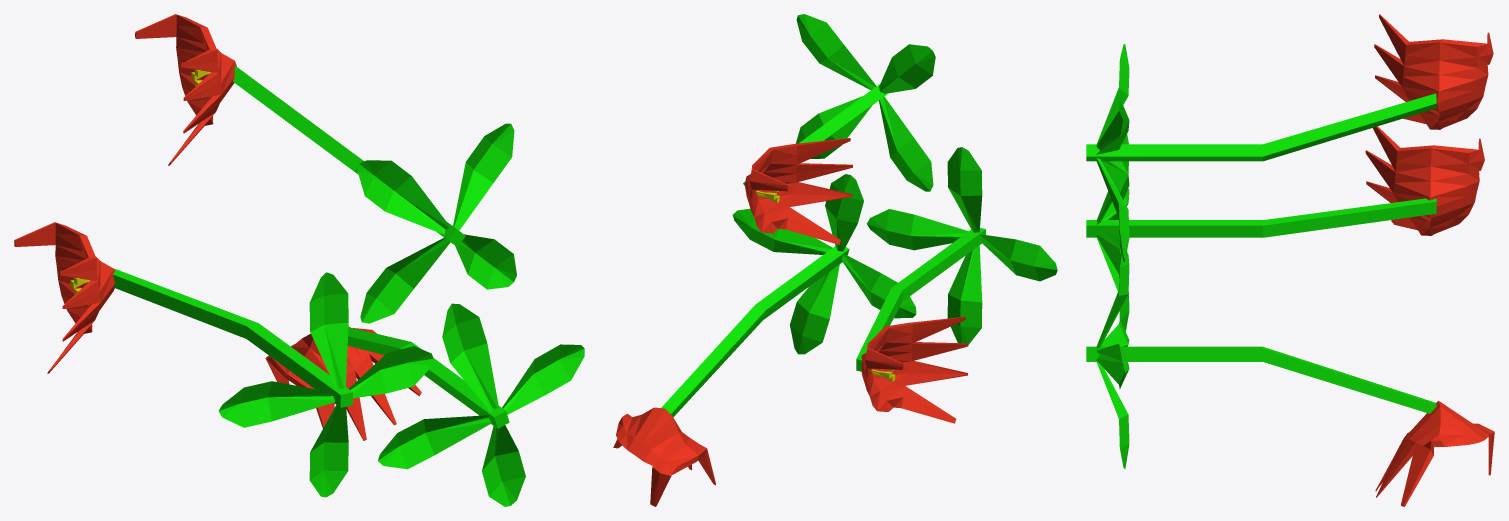
File: Oninoude.fbx
3 renders of one model, left to right at view 1: azimuth 30°, elevation 25°; view 2: azimuth 150°, elevation 25°; view 3: azimuth 270°, elevation 25°, orthographic. The views are drawn at different scales.
Visible parts, largest first — view 1: 平面.002; view 2: 平面.002; view 3: 平面.002.
Part boxes in pixels (bbox=[...]): 平面.002: bbox=[14, 14, 584, 506]; 平面.002: bbox=[613, 14, 1057, 506]; 平面.002: bbox=[1086, 14, 1494, 506].
Bounding box in the file's own units: 5.97 × 6.19 × 5.71.
